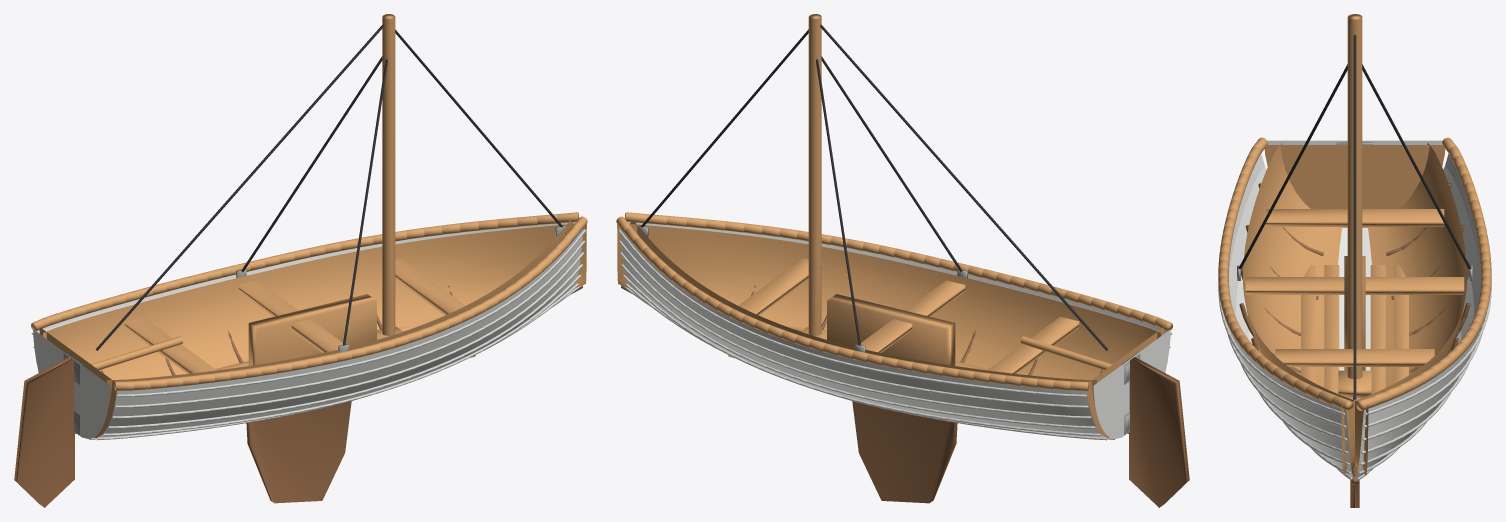
File: dinghy.glb
3 renders of one model, left to right at view 1: azimuth 30°, elevation 25°; view 2: azimuth 150°, elevation 25°; view 3: azimuth 270°, elevation 25°, orthographic. The views are drawn at different scales.
Visible parts, largest first — view 1: Port_Varnished_Interior_Planking, Centreboard, Rudder_Blade, Port_Varnished_Gunwale, Centreboard_Trunk, Starboard_Varnished_Gunwale, Mast, Starboard_Clinker_Strake_07, Starboard_Clinker_Strake_06, Starboard_Clinker_Strake_05, White_Exterior_Transom, Starboard_Clinker_Strake_08 (+18 smaller); view 2: Starboard_Varnished_Interior_Planking, Centreboard, Rudder_Blade, Starboard_Varnished_Gunwale, Centreboard_Trunk, Port_Varnished_Gunwale, Mast, Port_Clinker_Strake_07, Port_Clinker_Strake_06, Port_Clinker_Strake_05, White_Exterior_Transom, Port_Clinker_Strake_08 (+18 smaller); view 3: Port_Varnished_Interior_Planking, Starboard_Varnished_Interior_Planking, Varnished_Interior_Transom, Mast, Port_Varnished_Gunwale, Starboard_Varnished_Gunwale, Middle_Thwart, Aft_Thwart, Forward_Thwart, Port_Clinker_Strake_06, Starboard_Clinker_Strake_06, Port_Clinker_Strake_07 (+29 smaller).
Part boxes in pixels (<box>): Port_Varnished_Interior_Planking: <box>43,222,586,379</box>; Centreboard: <box>246,401,351,503</box>; Rudder_Blade: <box>14,357,74,507</box>; Port_Varnished_Gunwale: <box>31,212,579,331</box>; Centreboard_Trunk: <box>248,294,376,365</box>; Starboard_Varnished_Gunwale: <box>114,216,587,390</box>; Mast: <box>382,14,395,335</box>; Starboard_Clinker_Strake_07: <box>114,236,582,405</box>; Starboard_Clinker_Strake_06: <box>112,247,581,416</box>; Starboard_Clinker_Strake_05: <box>108,259,580,426</box>; White_Exterior_Transom: <box>33,329,110,438</box>; Starboard_Clinker_Strake_08: <box>116,228,583,395</box>; Starboard_Varnished_Interior_Planking: <box>617,222,1160,379</box>; Centreboard: <box>852,401,957,503</box>; Rudder_Blade: <box>1129,357,1189,507</box>; Starboard_Varnished_Gunwale: <box>624,212,1172,331</box>; Centreboard_Trunk: <box>827,294,955,365</box>; Port_Varnished_Gunwale: <box>616,216,1089,390</box>; Mast: <box>808,14,821,335</box>; Port_Clinker_Strake_07: <box>621,236,1089,405</box>; Port_Clinker_Strake_06: <box>622,247,1091,416</box>; Port_Clinker_Strake_05: <box>623,259,1095,426</box>; White_Exterior_Transom: <box>1093,329,1170,438</box>; Port_Clinker_Strake_08: <box>620,228,1087,395</box>; Port_Varnished_Interior_Planking: <box>1341,142,1466,475</box>; Starboard_Varnished_Interior_Planking: <box>1243,142,1368,475</box>; Varnished_Interior_Transom: <box>1264,145,1445,227</box>; Mast: <box>1347,14,1362,378</box>; Port_Varnished_Gunwale: <box>1356,137,1491,410</box>; Starboard_Varnished_Gunwale: <box>1218,137,1353,410</box>; Middle_Thwart: <box>1245,277,1464,294</box>; Aft_Thwart: <box>1265,209,1444,226</box>; Forward_Thwart: <box>1275,349,1434,366</box>; Port_Clinker_Strake_06: <box>1361,166,1480,439</box>; Starboard_Clinker_Strake_06: <box>1229,166,1348,439</box>; Port_Clinker_Strake_07: <box>1362,153,1480,426</box>.
Bounding box in the file's own units: 4.48 × 3.52 × 1.65.
